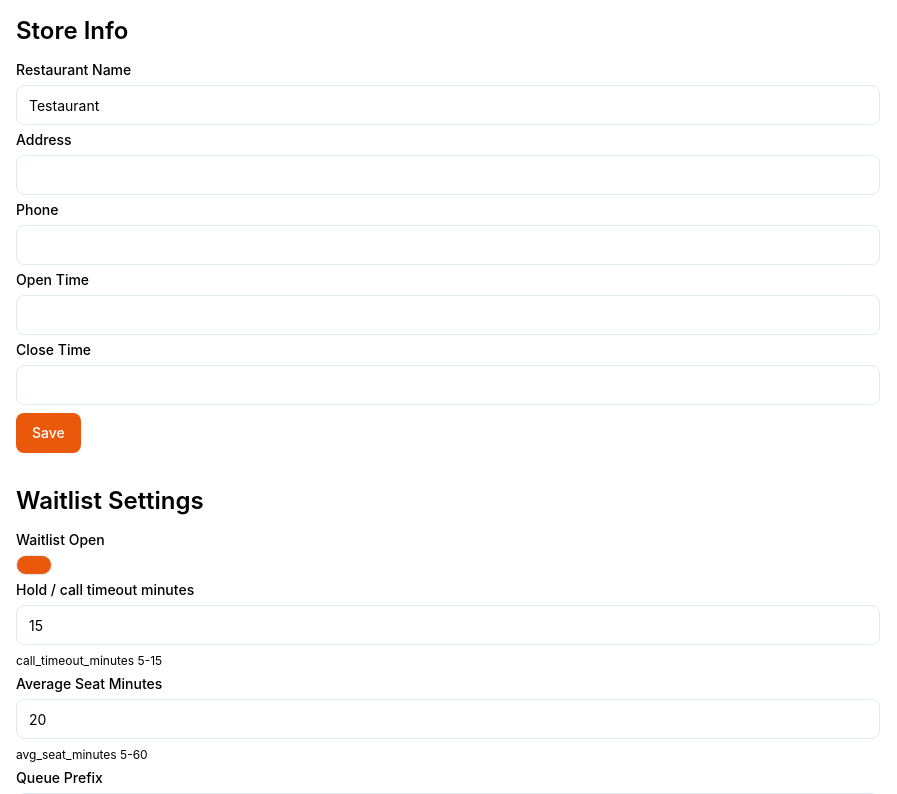
Scenario: waitlist settings save › refuses out-of-range avg seat minutes
The width and height of the screenshot is (897, 794).
Replace the text in the field with test id "avg-seat-minutes" with "90" at (448, 719), box left=16, top=699, right=880, bottom=739
(page scrolled)
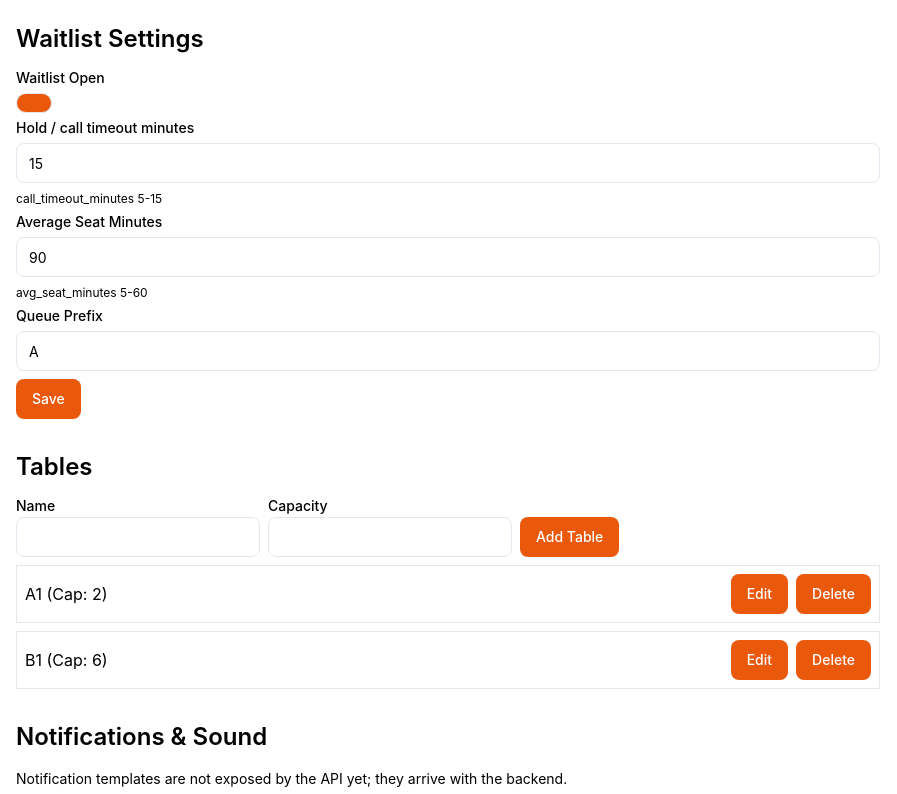
Click the button with test id "save-waitlist".
click(48, 399)  # box left=16, top=379, right=81, bottom=419
(page scrolled)
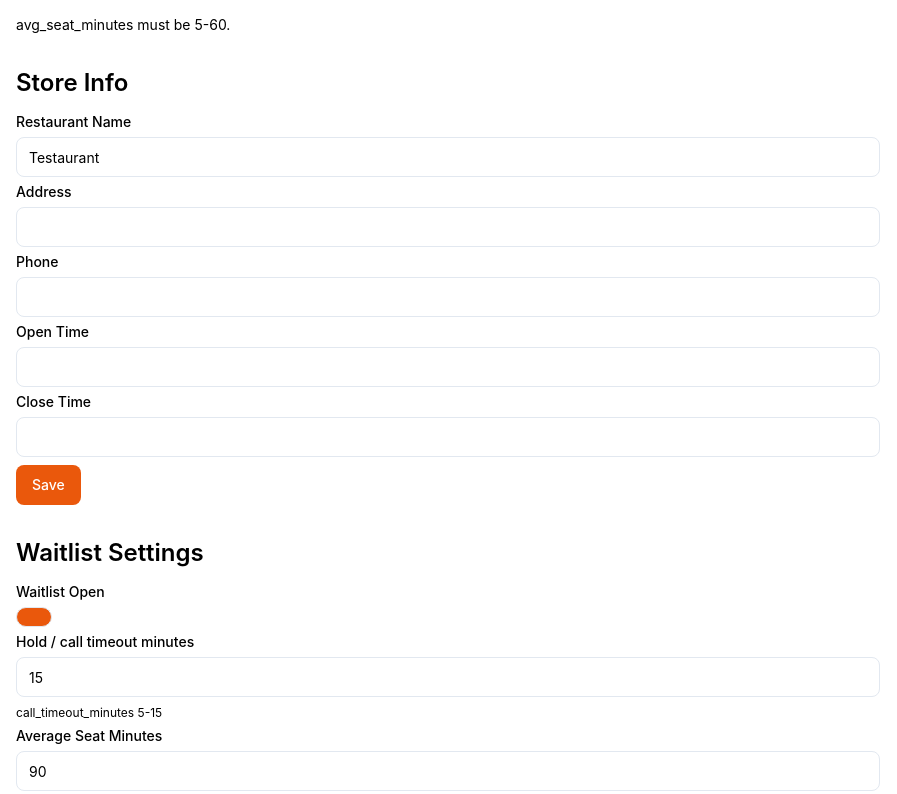
Result: the text "avg_seat_minutes must be 5-60." is shown at left=16, top=16, right=230, bottom=33
